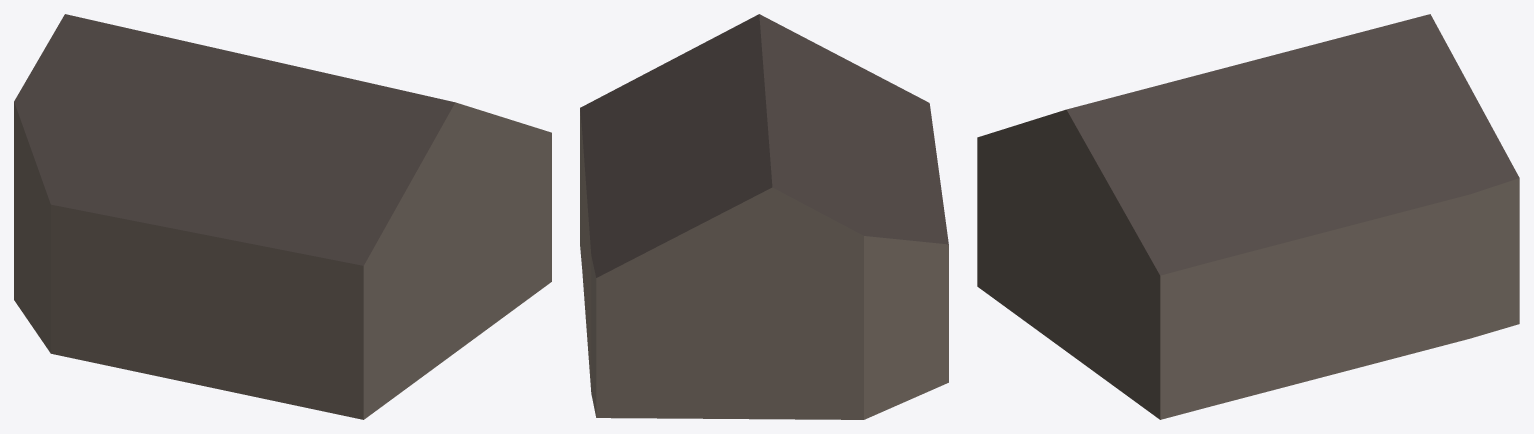
The picture shows the model from 3 angles, left to right: view 1: azimuth 30°, elevation 25°; view 2: azimuth 150°, elevation 25°; view 3: azimuth 270°, elevation 25°; orthographic projection. The views are drawn at different scales.
Parts seen in each view (by area): view 1: HP-w1198528170; view 2: HP-w1198528170; view 3: HP-w1198528170.
Part boxes in pixels (x1=…): HP-w1198528170: x1=14, y1=14, x2=551, y2=419; HP-w1198528170: x1=580, y1=14, x2=948, y2=419; HP-w1198528170: x1=977, y1=14, x2=1519, y2=419.
Size of the model in its own units: 18.92 by 10.07 by 20.45.
